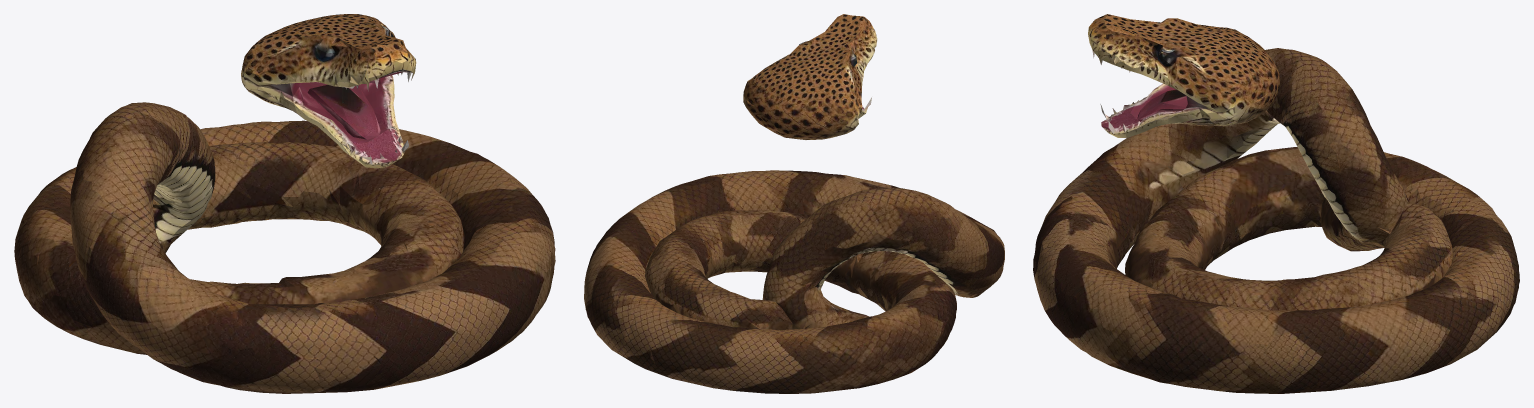
The model's file is fauna_snake.glb.
3 views of the same model, side by side, from view 1: azimuth 30°, elevation 25°; view 2: azimuth 150°, elevation 25°; view 3: azimuth 270°, elevation 25° (orthographic). The views are drawn at different scales.
Size of the model in its own units: 1.87 by 1.21 by 1.9.
1 material, 1 textured.
